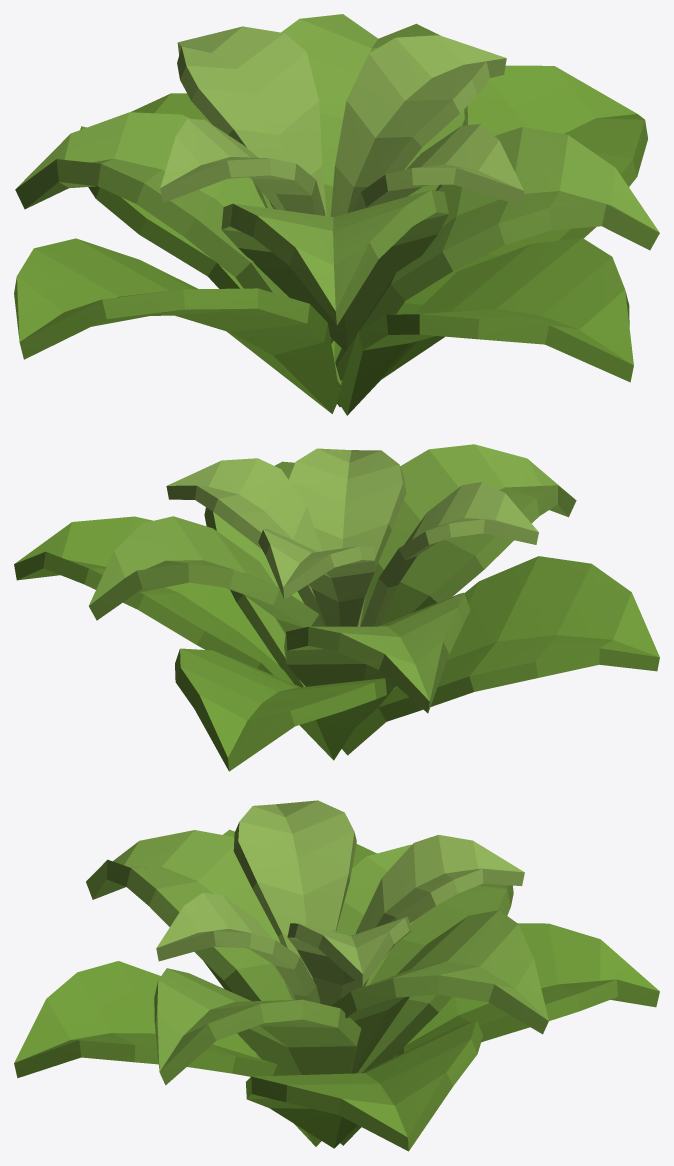
File: shrub.glb
3 renders of one model, top to bottom at view 1: azimuth 30°, elevation 25°; view 2: azimuth 150°, elevation 25°; view 3: azimuth 270°, elevation 25°, orthographic. The views are drawn at different scales.
Parts seen in each view (by area): view 1: shrub; view 2: shrub; view 3: shrub.
Boxes of the visible parts, bbox=[...] form: shrub: bbox=[14, 14, 659, 415]; shrub: bbox=[14, 444, 659, 771]; shrub: bbox=[14, 800, 659, 1151].
Bounding box in the file's own units: 1.79 × 0.7844 × 1.67.
1 material, 1 textured.
